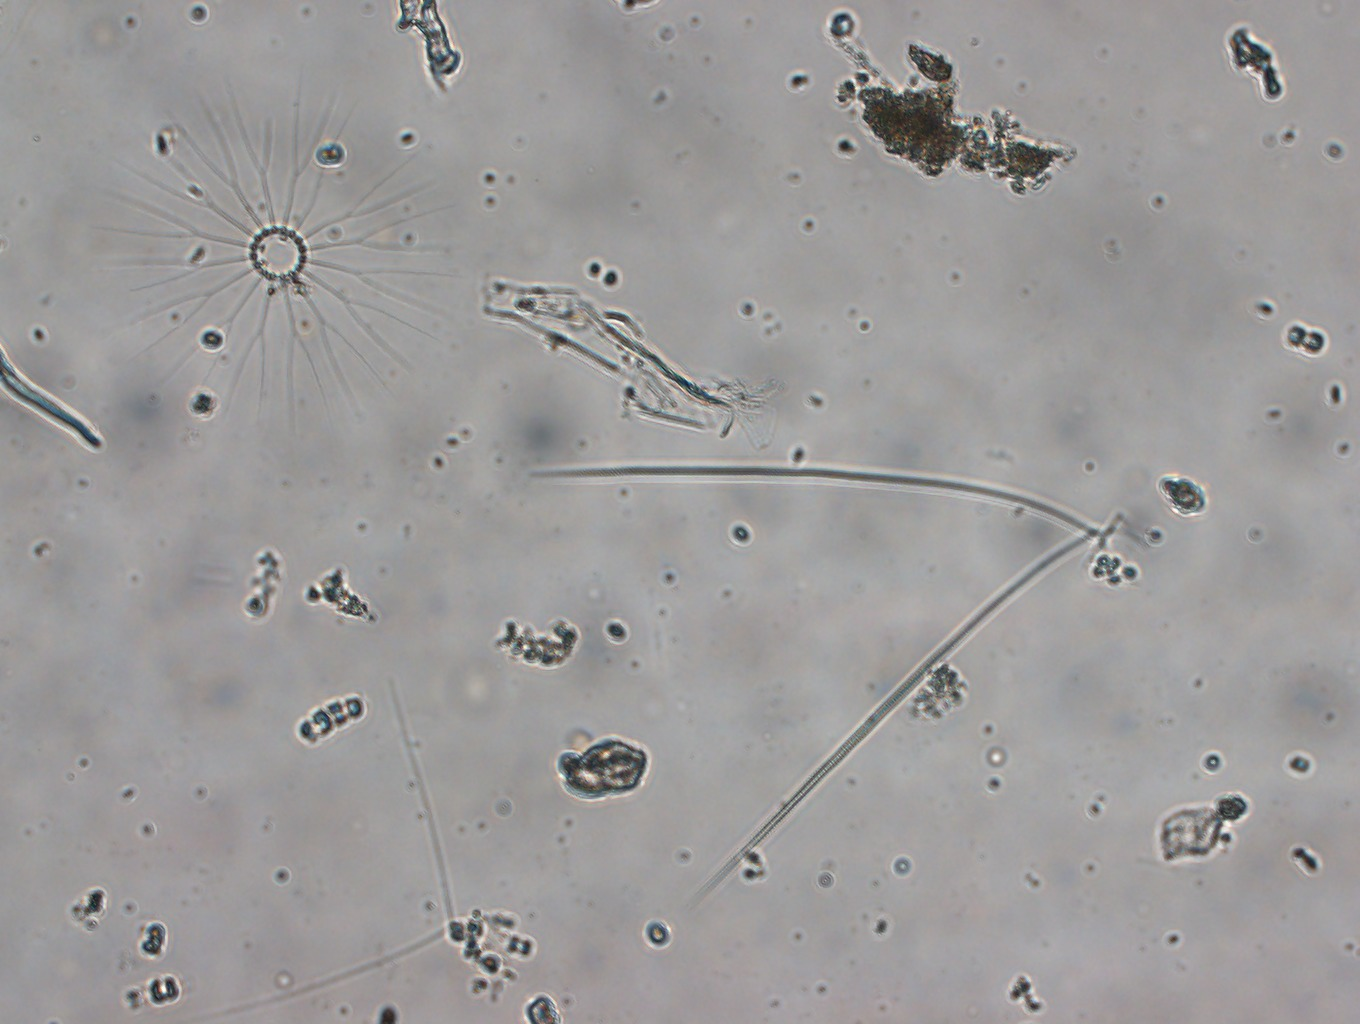bacteriastrum: (90, 68, 463, 436)
